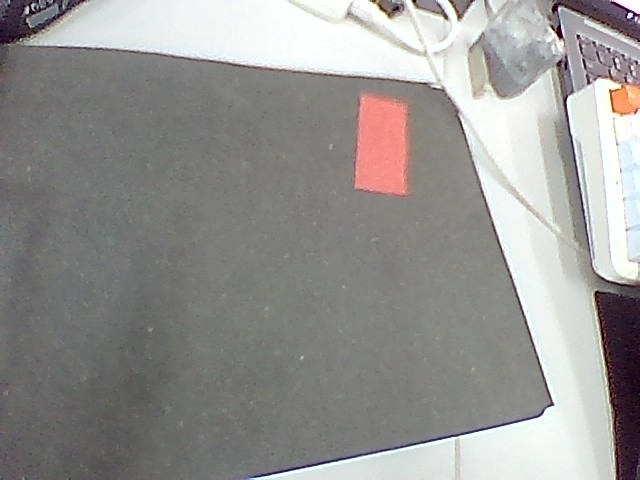card: (354, 93, 407, 194)
